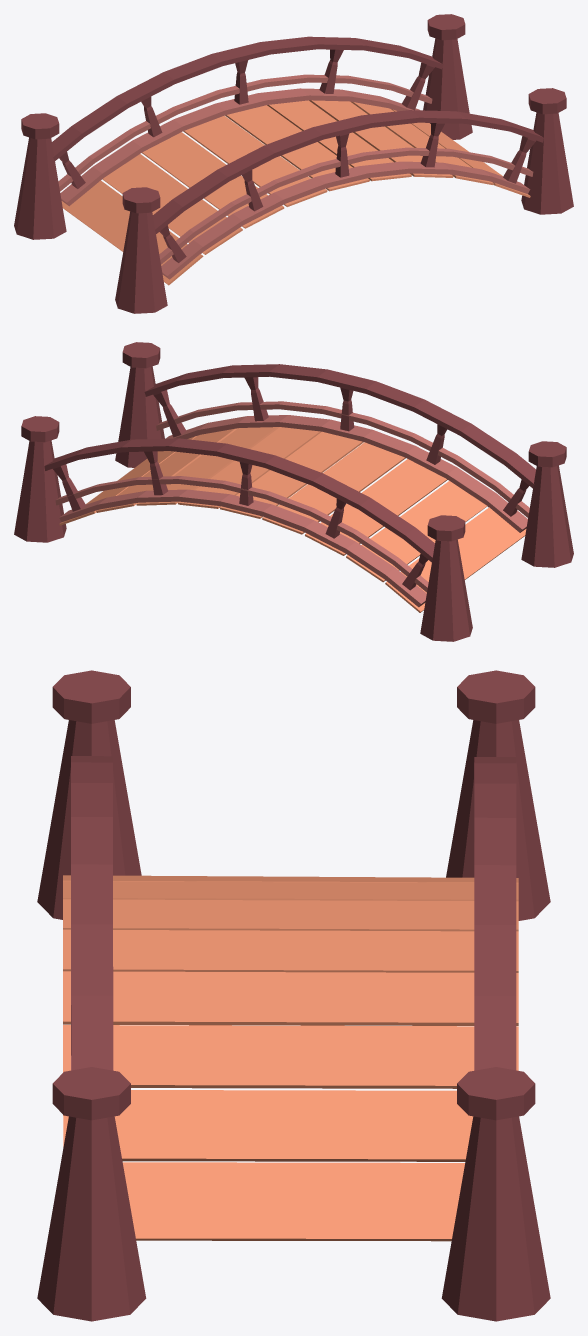
Rendered from bridge.fbx.
3 renders of one model, top to bottom at view 1: azimuth 30°, elevation 25°; view 2: azimuth 150°, elevation 25°; view 3: azimuth 270°, elevation 25°, orthographic. The views are drawn at different scales.
Visible parts, largest first — view 1: Cube.001, Cylinder.001, Cube.009, Cube.002, Cube.010; view 2: Cube.001, Cylinder.001, Cube.009, Cube.002, Cube.010; view 3: Cube.001, Cylinder.001, Cube.002.
Boxes of the visible parts, <box> form: Cube.001: <box>61,100,530,285</box>; Cylinder.001: <box>14,14,573,313</box>; Cube.009: <box>58,74,533,279</box>; Cube.002: <box>52,36,543,233</box>; Cube.010: <box>59,49,535,262</box>; Cube.001: <box>59,427,526,612</box>; Cylinder.001: <box>14,342,573,641</box>; Cube.009: <box>55,401,529,607</box>; Cube.002: <box>44,364,535,562</box>; Cube.010: <box>53,377,529,590</box>; Cube.001: <box>63,875,518,1241</box>; Cylinder.001: <box>37,670,550,1321</box>; Cube.002: <box>71,756,516,1070</box>.
Bounding box in the file's own units: 5729 × 1552 × 2809.
